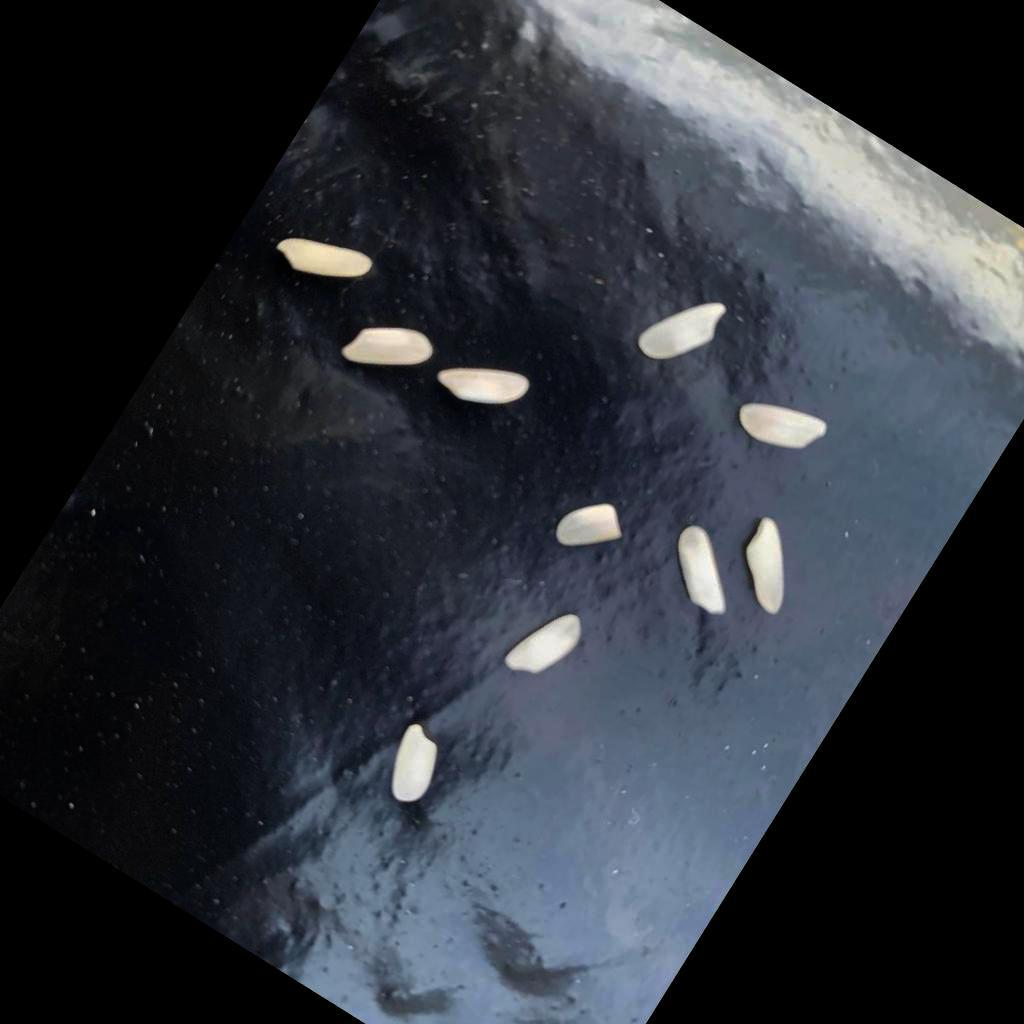rice: (631, 274, 731, 381), (654, 521, 757, 621), (722, 515, 819, 618), (338, 300, 440, 396), (271, 214, 375, 305), (730, 378, 832, 469), (431, 336, 533, 427), (501, 596, 591, 694), (372, 721, 457, 813), (549, 485, 634, 570)
